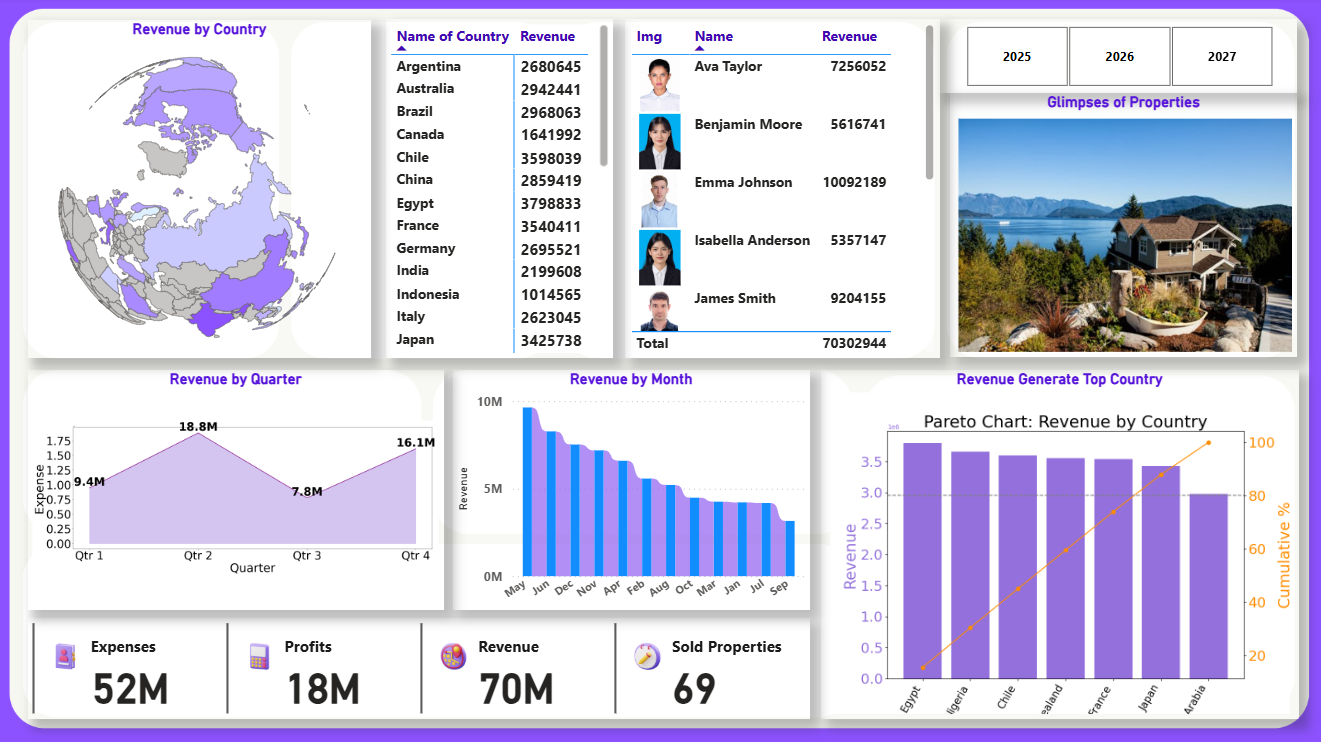

This screenshot's page, from the dashboard's own definition file:
{"tool":"powerbi","page":{"name":"Page 1","canvas":[1280,720],"ordinal":0},"visuals":[{"type":"slicer","fields":{"Values":["Calender.Year"]},"box":[912.1,21.7,345,71.2],"z":0},{"type":"shapeMap","title":"Revenue by Country","fields":{"Category":["property details.Name of Country"],"Value":["Sum(property details.Expense)"]},"box":[31.4,21.4,332.1,326.4],"z":1000},{"type":"pivotTable","fields":{"Rows":["property details.Name of Country"],"Values":["Measure Table.Revenue"]},"box":[377.7,21.4,219.5,326.4],"z":2000},{"type":"tableEx","fields":{"Values":["customer details.Img","customer details.Name","Measure Table.Revenue"]},"box":[608.6,21.4,303.6,326.4],"z":3000},{"type":"cardVisual","fields":{"Data":["Measure Table.Expenses","Measure Table.Profits","Measure Table.Revenue","Measure Table.Sold Properties"]},"box":[31.4,599.6,755.2,97.7],"z":4000},{"type":"pythonVisual","title":"Revenue by Quarter","fields":{"Values":["Sum(property details.Expense)","Calender.Quarter"]},"box":[31.6,359.5,402.1,231.9],"z":5000},{"type":"pythonVisual","title":"Revenue Generate Top Country","fields":{"Values":["property details.Name of Country","Measure Table.Revenue"]},"box":[797,359.5,460.6,337.7],"z":6000},{"type":"ribbonChart","fields":{"Category":["Calender.Month"],"Y":["Measure Table.Revenue"]},"box":[441.6,359.5,345,231.6],"z":7000},{"type":"ImageCarouselByMAQSoftware1448688110701","title":"Glimpses of  Properties","fields":{"ImageData":["property details.Image"]},"box":[921.7,92.9,335.4,254.6],"z":8000}]}

Visuals, with their boxes in screenshot pixels (x1, y1, x2, y2), scaled from the page's 1280x720 canvas onto the 1321x742 screenshot:
slicer - Calender.Year: region(941, 22, 1297, 96)
"Revenue by Country" shapeMap: region(32, 22, 375, 358)
pivotTable - property details.Name of Country x Measure Table.Revenue: region(390, 22, 616, 358)
tableEx - customer details.Img x customer details.Name: region(628, 22, 941, 358)
cardVisual - Measure Table.Expenses x Measure Table.Profits: region(32, 618, 812, 719)
"Revenue by Quarter" pythonVisual: region(33, 370, 448, 609)
"Revenue Generate Top Country" pythonVisual: region(823, 370, 1298, 719)
ribbonChart - Calender.Month x Measure Table.Revenue: region(456, 370, 812, 609)
"Glimpses of  Properties" ImageCarouselByMAQSoftware1448688110701: region(951, 96, 1297, 358)
